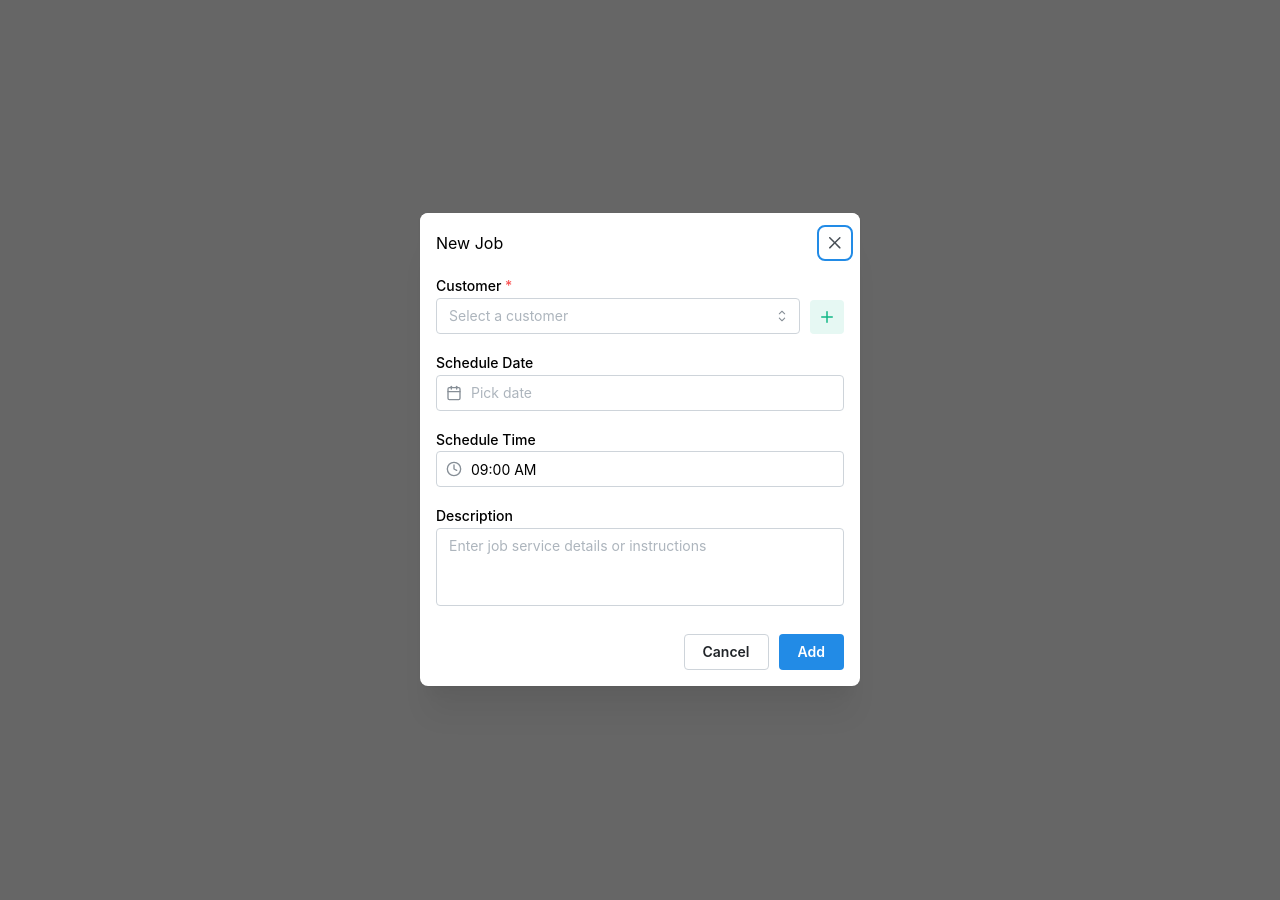
Test: JobFormModal › shows a Zod validation error when submitted without a customer
Click the button "Add" at (811, 653), box [778,635,844,671]
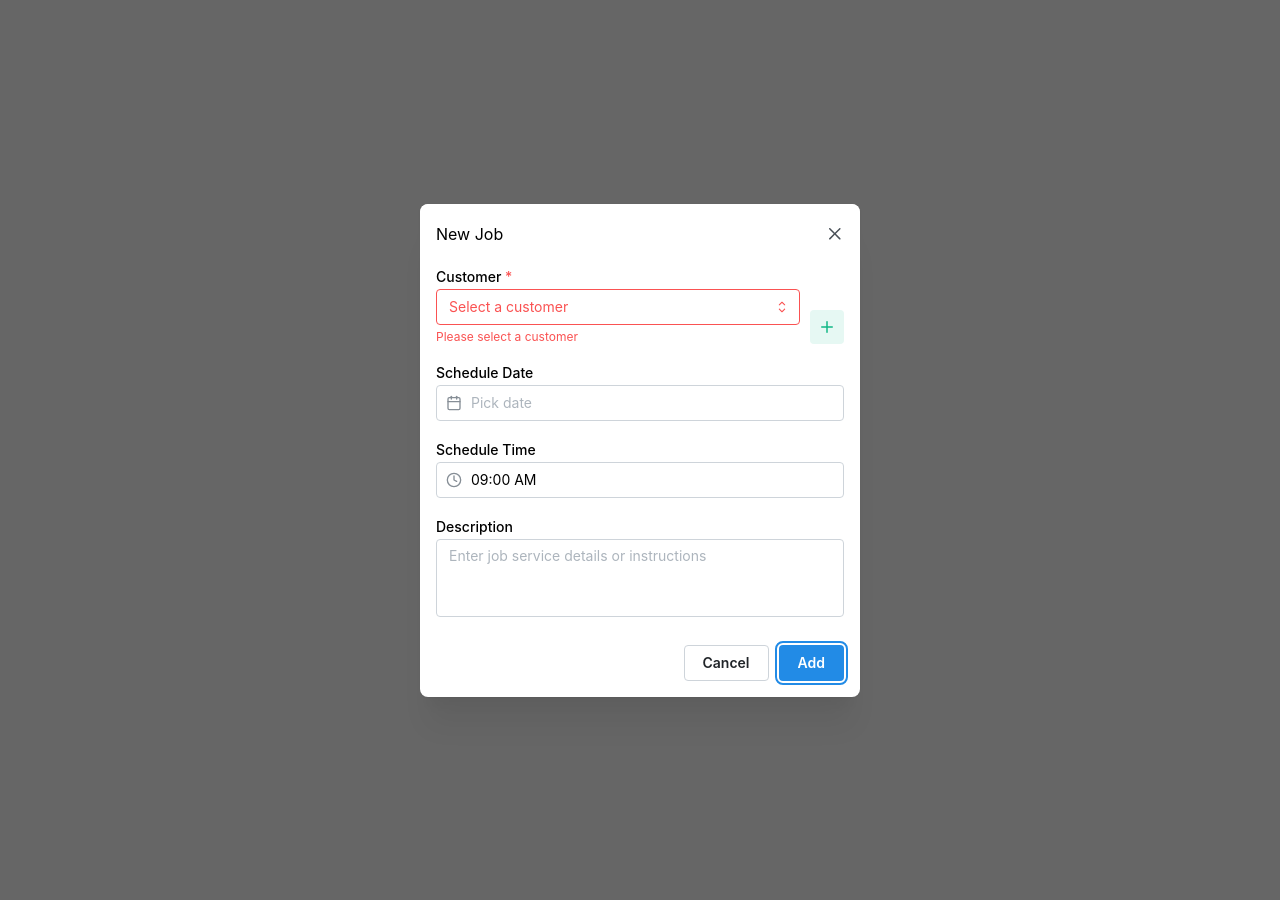
Expected: the text "Please select a customer" is shown, [436,328,578,344]
